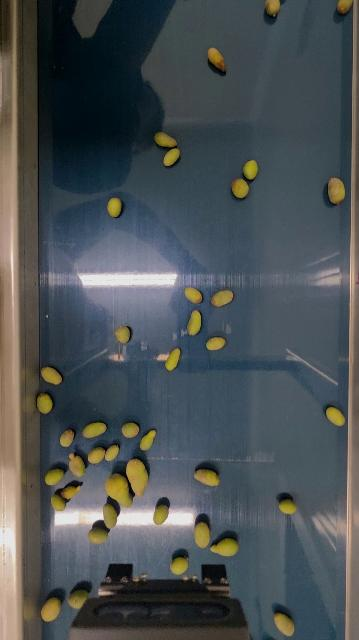Baby Potato: (125, 457, 150, 498), (105, 472, 134, 507), (210, 536, 240, 558), (206, 45, 229, 73), (274, 610, 296, 638), (40, 596, 62, 622), (153, 129, 180, 150), (327, 177, 347, 205), (194, 467, 221, 487), (193, 521, 212, 548), (211, 288, 235, 309), (67, 452, 86, 478), (81, 421, 108, 439), (325, 405, 347, 427), (67, 588, 89, 610), (186, 309, 203, 337), (102, 503, 119, 529), (165, 346, 182, 372), (41, 365, 63, 385), (231, 177, 250, 200), (44, 467, 66, 486), (36, 392, 54, 415), (162, 146, 181, 167), (242, 158, 259, 181), (153, 501, 169, 525), (170, 555, 189, 575), (88, 526, 109, 544), (106, 196, 123, 218), (140, 429, 157, 451), (184, 286, 203, 305), (88, 445, 105, 464), (114, 325, 131, 344), (279, 497, 298, 514), (49, 493, 66, 512), (61, 483, 81, 499), (206, 336, 227, 351), (121, 421, 139, 438), (59, 429, 75, 448), (264, 0, 281, 17), (105, 443, 120, 462), (337, 0, 355, 15)
